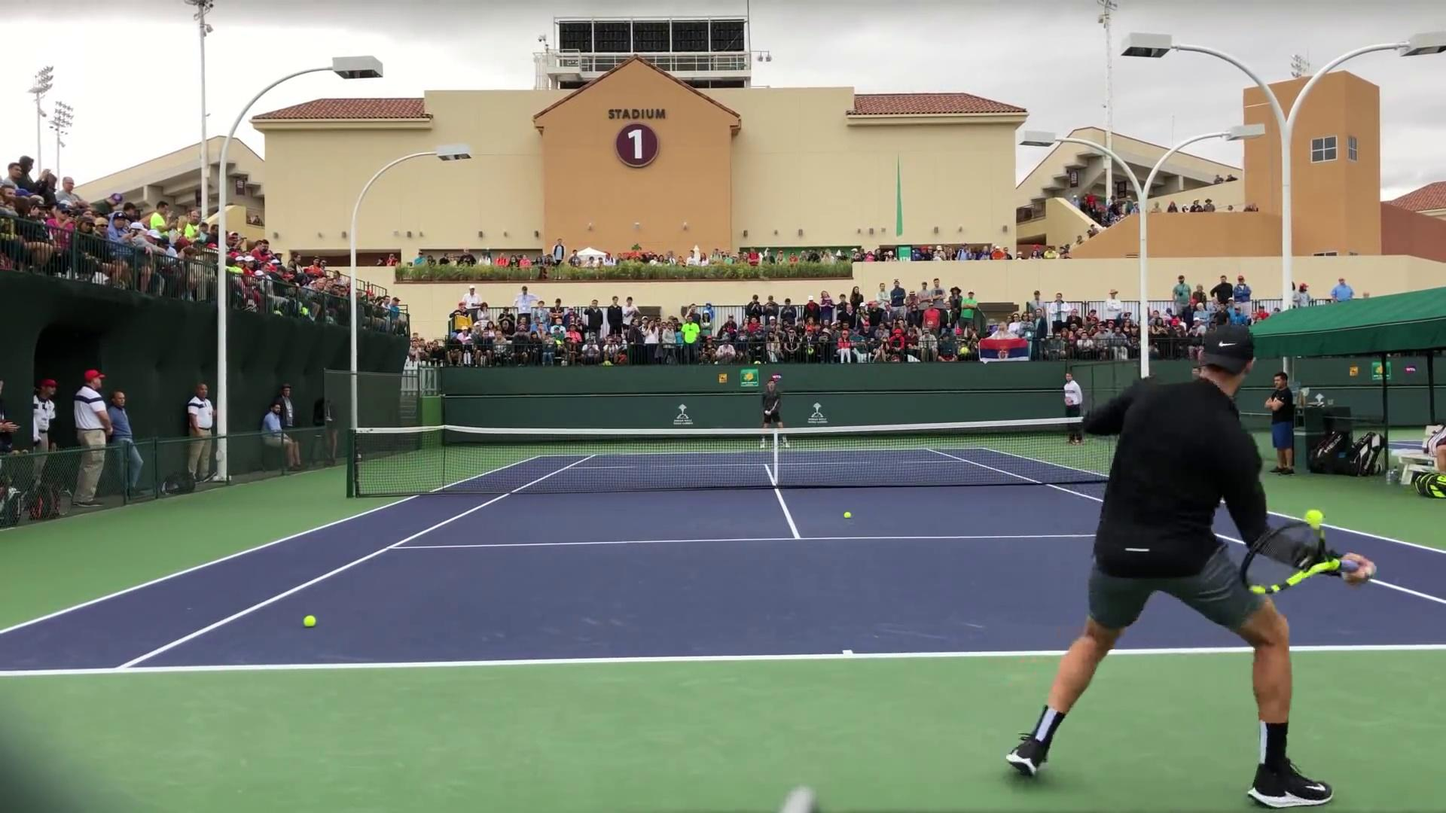ball: (1304, 509, 1323, 524), (303, 616, 317, 628), (843, 512, 852, 518)
